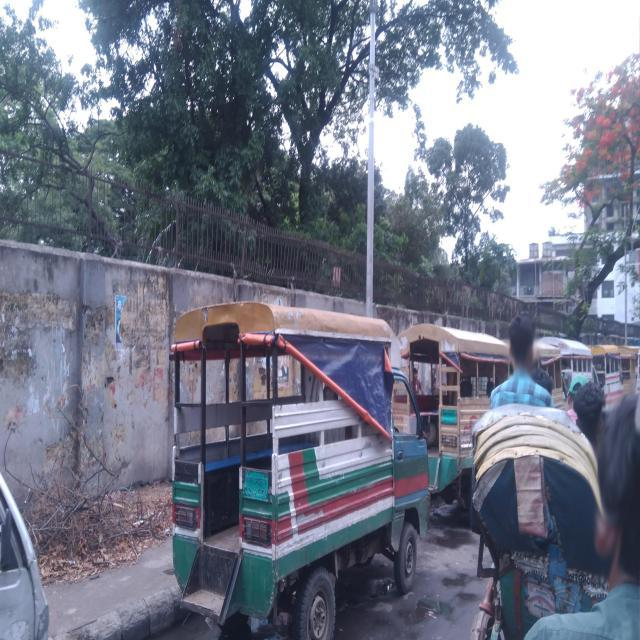Leguna: (121, 288, 443, 640), (364, 318, 541, 550), (484, 315, 603, 484), (560, 328, 640, 473)
Rickshaw: (449, 395, 640, 640)
